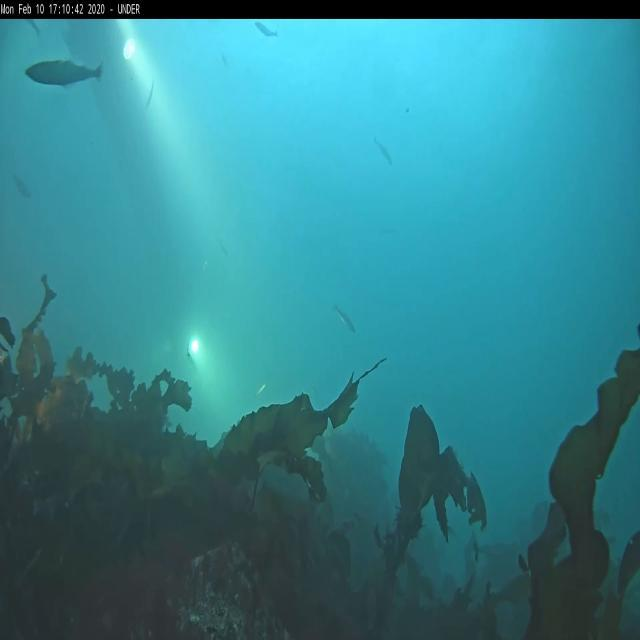fish: (24, 58, 102, 89), (336, 305, 356, 336), (373, 136, 393, 166), (254, 20, 280, 40)
